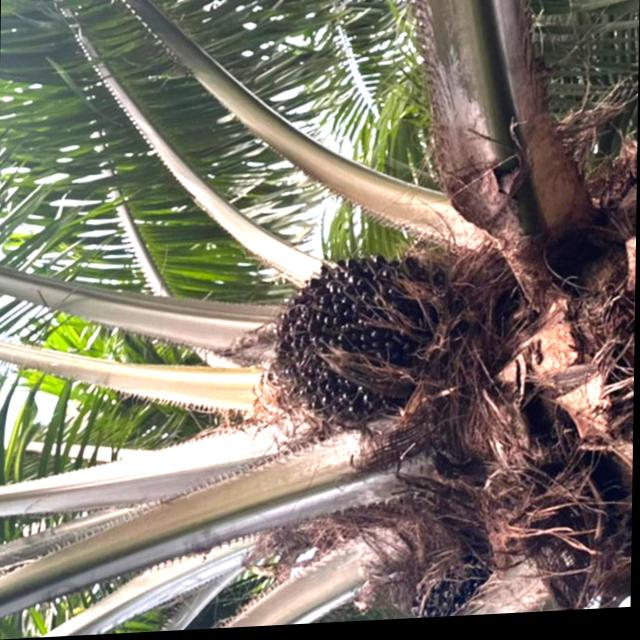almost: (252, 257, 438, 436), (406, 537, 493, 623)
